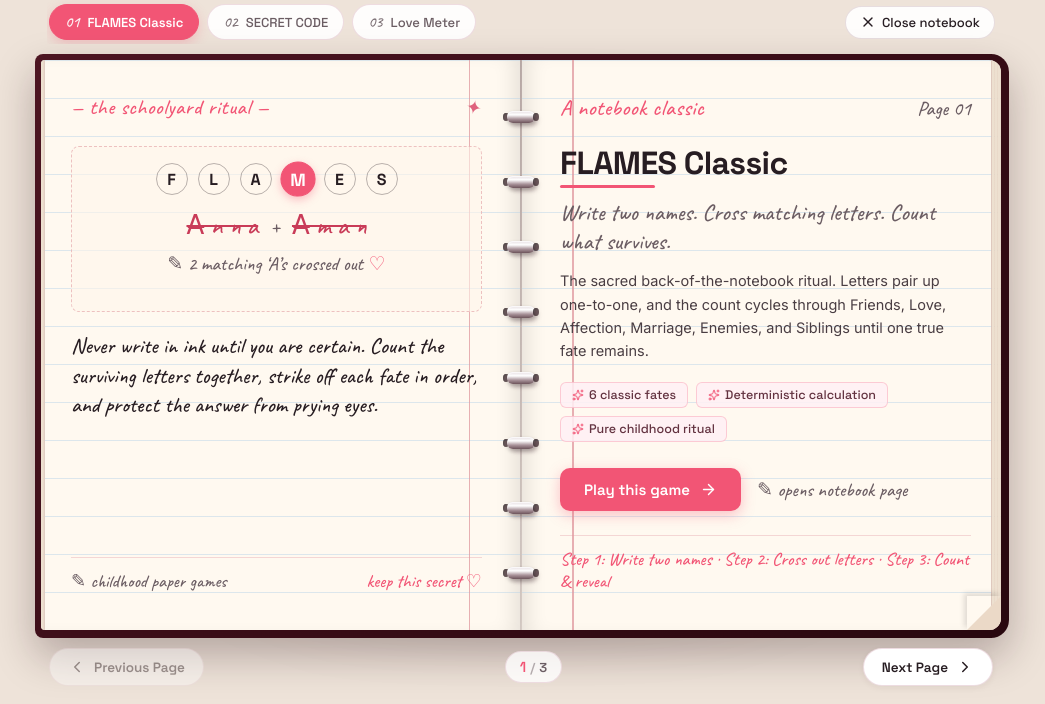
Test: InteractiveNotebook component › allows switching pages via top tabs
Click the tab "03 Love Meter" at (414, 22), box [352, 4, 476, 40]
Wait 550 ms
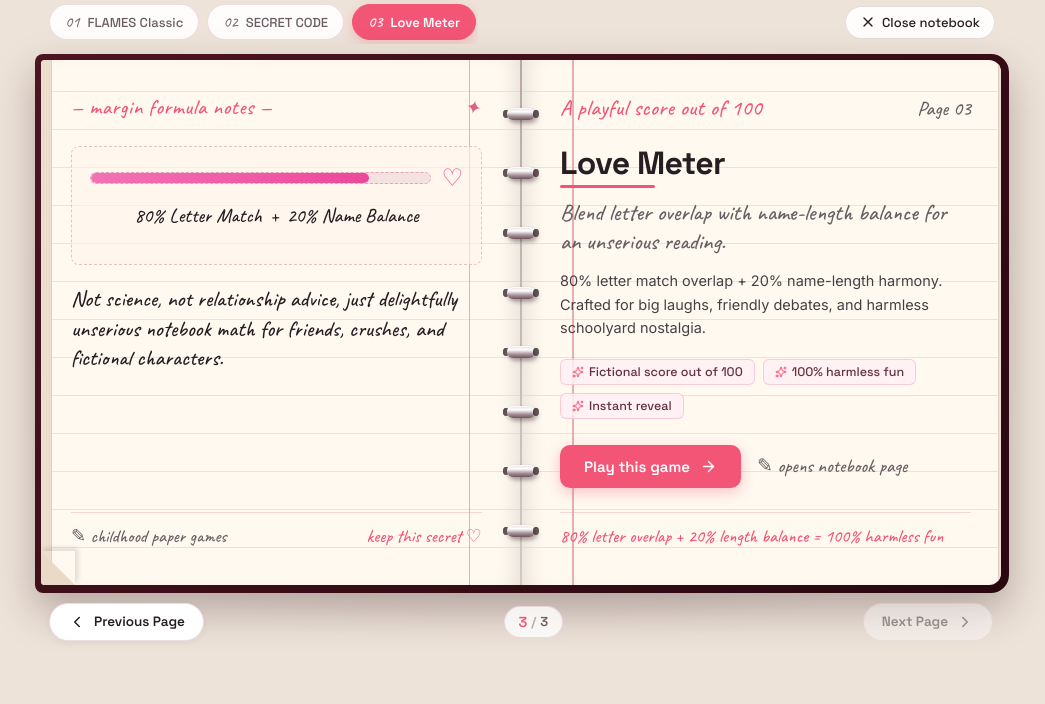
Expected: the heading "Love Meter" is shown, [560, 143, 725, 188]
Expected: the button with aria-label "Play Love Meter" is shown, [560, 445, 741, 488]
Expected: the text "Page 03" is shown, [917, 96, 971, 120]
